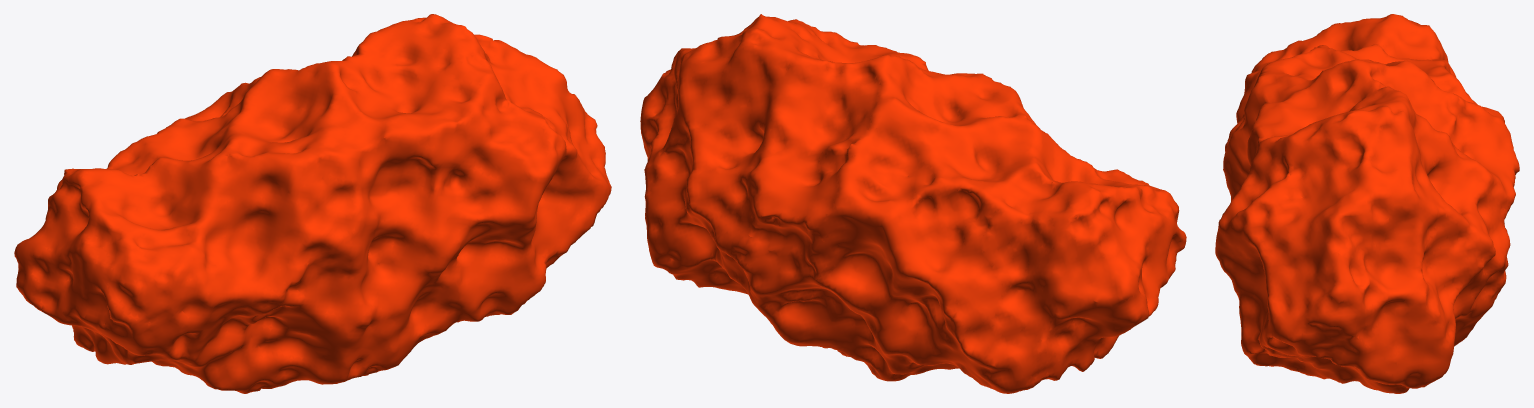
The model's file is Asteroid_2.glb.
3 renders of one model, left to right at view 1: azimuth 30°, elevation 25°; view 2: azimuth 150°, elevation 25°; view 3: azimuth 270°, elevation 25°, orthographic.
Visible parts, largest first — view 1: ASTEROID_LOW_POLY_2_; view 2: ASTEROID_LOW_POLY_2_; view 3: ASTEROID_LOW_POLY_2_.
Part boxes in pixels (bbox=[...]): ASTEROID_LOW_POLY_2_: bbox=[14, 14, 611, 393]; ASTEROID_LOW_POLY_2_: bbox=[640, 14, 1186, 393]; ASTEROID_LOW_POLY_2_: bbox=[1215, 14, 1519, 393].
Size of the model in its own units: 4 by 2.14 by 1.97.
Materials: 1 (1 with a texture image).
